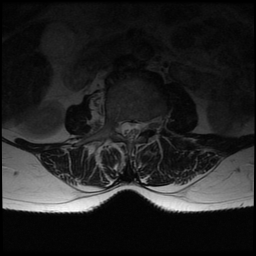CCS_normal: (127, 114, 135, 148)
LFS_normal: (143, 110, 152, 138)
LLS_normal: (135, 111, 143, 145)
RFS_normal: (110, 109, 118, 138)
RLS_normal: (119, 111, 127, 145)
